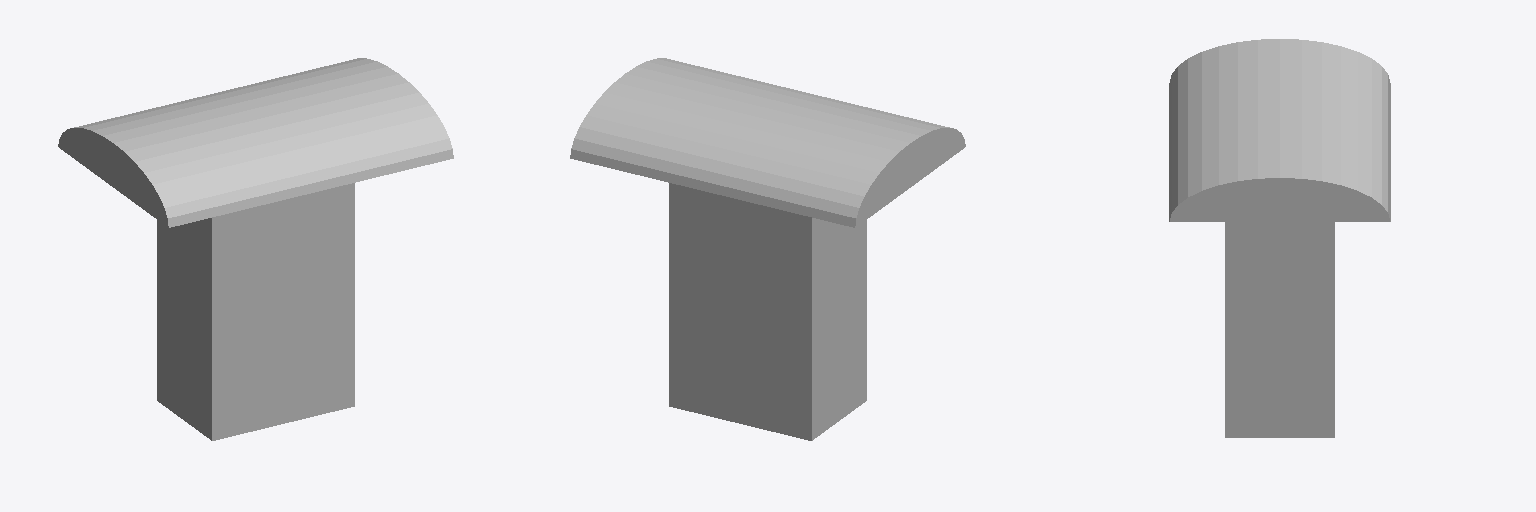
File: body_r_dist_pinvround_collision.obj
3 renders of one model, left to right at view 1: azimuth 30°, elevation 25°; view 2: azimuth 150°, elevation 25°; view 3: azimuth 270°, elevation 25°, orthographic.
Visible parts, largest first — view 1: body_r_dist_pinvround_collision_Cube.090; view 2: body_r_dist_pinvround_collision_Cube.090; view 3: body_r_dist_pinvround_collision_Cube.090.
Boxes of the visible parts, <box> form: body_r_dist_pinvround_collision_Cube.090: <box>58,58,453,440</box>; body_r_dist_pinvround_collision_Cube.090: <box>570,58,965,440</box>; body_r_dist_pinvround_collision_Cube.090: <box>1169,39,1390,437</box>.
Size of the model in its own units: 0.064 by 0.0633 by 0.043.